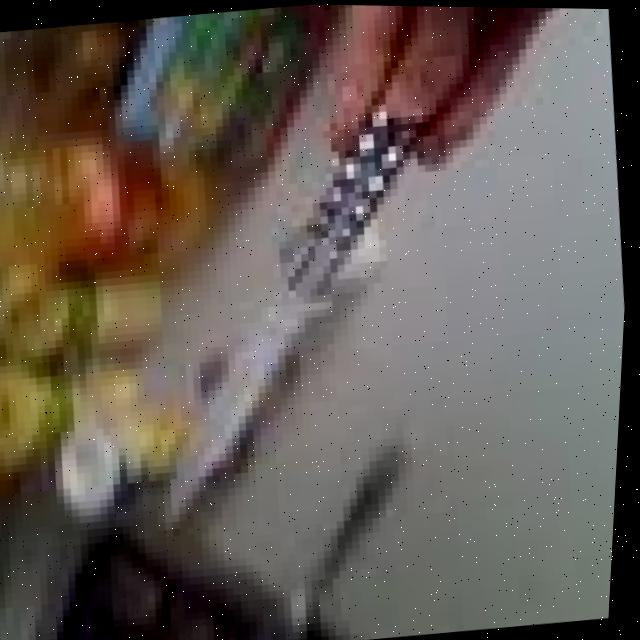knife: (120, 80, 471, 544)
